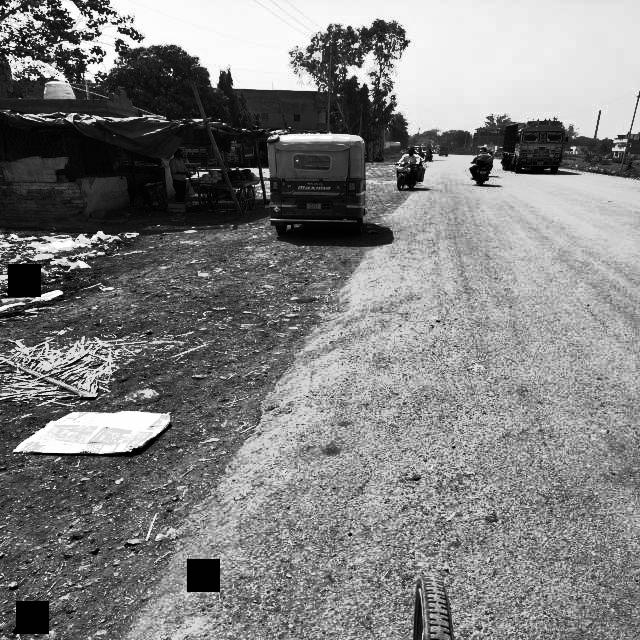Auto-Rickshaw: (260, 126, 376, 240)
